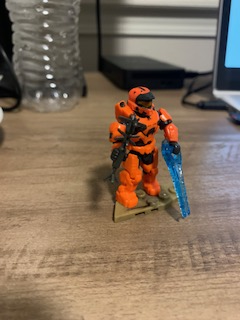spartan: (108, 83, 182, 208)
